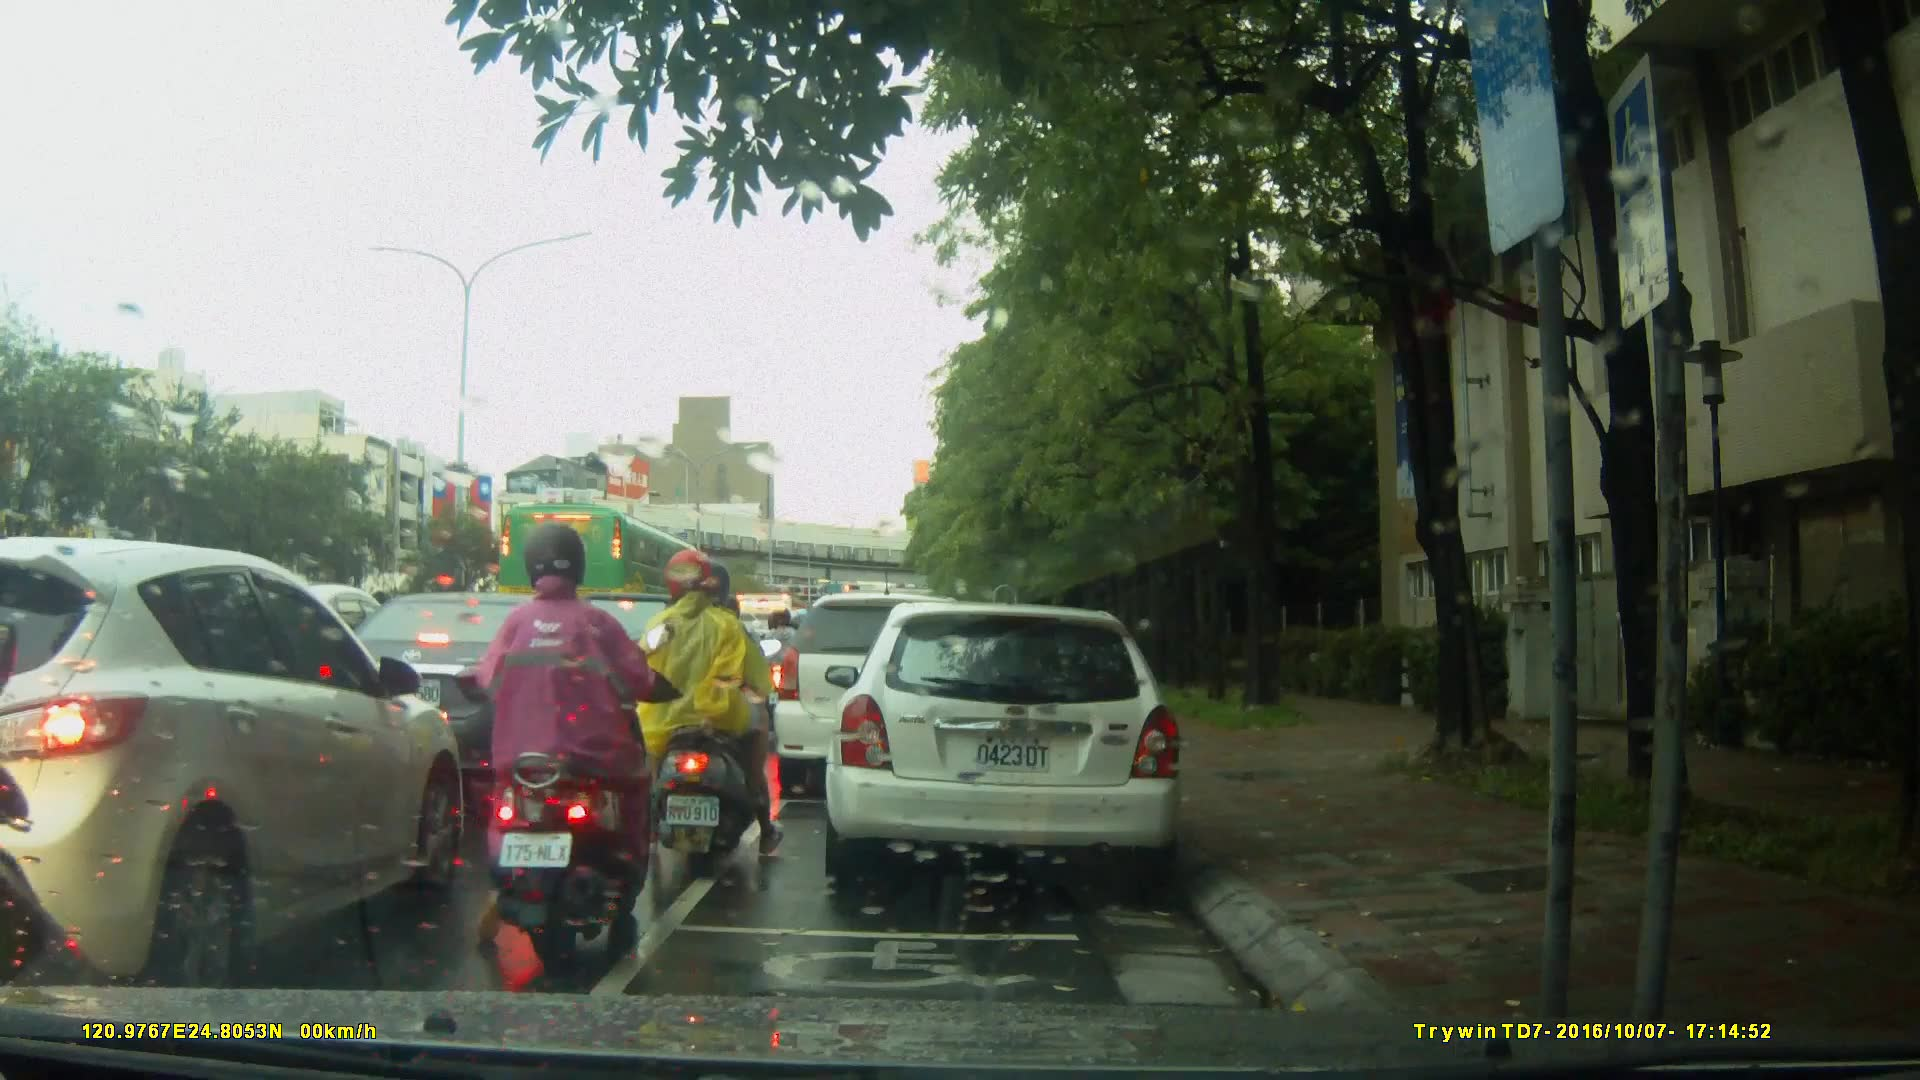rider: (483, 533, 653, 964), (634, 545, 784, 864), (705, 589, 787, 765), (757, 603, 811, 732)
vehicle: (5, 536, 468, 988), (831, 592, 1196, 897), (317, 589, 629, 776), (770, 590, 999, 804), (496, 500, 711, 636)
